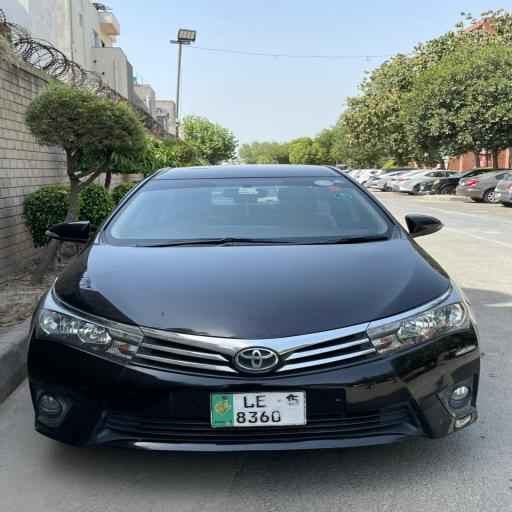bnu_sticker: (332, 192, 355, 200)
number_plate: (210, 392, 308, 428)
